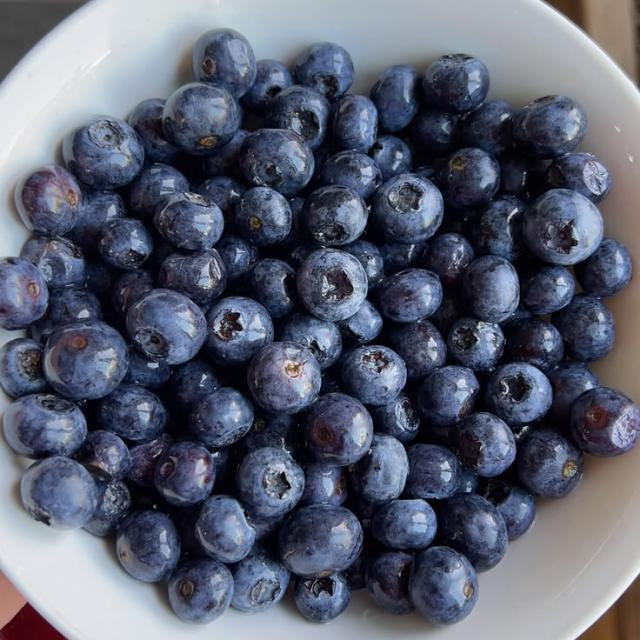blueberry: (43, 321, 128, 399), (522, 189, 603, 266), (280, 505, 363, 578), (127, 289, 206, 365), (63, 116, 144, 189), (163, 82, 240, 155), (20, 456, 97, 528), (409, 547, 478, 626), (438, 494, 507, 571), (3, 394, 86, 458), (297, 248, 367, 321), (239, 129, 314, 197), (372, 174, 443, 244), (304, 394, 373, 466), (15, 164, 82, 235), (571, 387, 639, 456), (205, 297, 273, 366), (236, 447, 304, 516), (517, 428, 584, 498), (116, 510, 180, 582), (513, 95, 586, 157), (484, 362, 552, 426), (193, 29, 256, 98), (267, 85, 331, 150), (168, 559, 233, 623), (552, 294, 614, 361), (96, 384, 166, 443), (195, 495, 255, 563), (154, 192, 224, 250), (154, 440, 215, 506), (422, 54, 489, 113), (461, 255, 519, 323), (455, 413, 516, 477), (341, 346, 406, 406), (302, 186, 367, 246), (187, 387, 253, 446), (30, 288, 102, 342), (232, 545, 290, 612), (158, 249, 226, 305), (417, 366, 479, 426), (438, 148, 499, 207), (387, 320, 446, 380), (20, 235, 86, 288), (377, 269, 442, 322), (473, 196, 526, 261), (234, 187, 292, 246), (294, 42, 354, 99), (243, 259, 299, 320), (280, 314, 341, 370), (372, 499, 437, 551), (575, 238, 632, 297), (545, 153, 612, 203), (127, 164, 189, 218), (128, 99, 180, 163), (370, 65, 419, 132), (547, 362, 599, 425), (447, 317, 505, 371), (505, 318, 564, 371), (234, 414, 302, 459), (320, 150, 381, 200), (405, 444, 460, 499), (485, 480, 535, 540), (421, 233, 475, 288), (460, 101, 515, 154), (366, 552, 413, 614), (74, 430, 131, 481), (241, 60, 293, 115), (98, 219, 153, 270), (294, 574, 351, 623), (0, 338, 47, 397), (168, 359, 221, 410), (83, 480, 131, 536), (332, 95, 378, 153), (520, 265, 574, 314), (370, 394, 419, 444), (195, 176, 246, 224), (127, 434, 173, 487), (110, 269, 154, 322), (202, 129, 249, 178), (410, 110, 459, 156), (497, 149, 540, 200), (342, 239, 384, 290), (368, 134, 412, 181), (300, 462, 346, 506), (337, 300, 383, 344), (216, 234, 258, 282), (169, 506, 201, 561), (430, 289, 466, 335), (378, 241, 426, 275), (279, 196, 307, 251), (247, 508, 286, 546), (439, 204, 479, 239), (345, 545, 372, 591), (209, 447, 234, 492), (85, 261, 114, 299), (287, 241, 321, 269), (500, 306, 533, 330), (321, 366, 341, 393), (459, 467, 479, 493), (414, 165, 437, 180)
